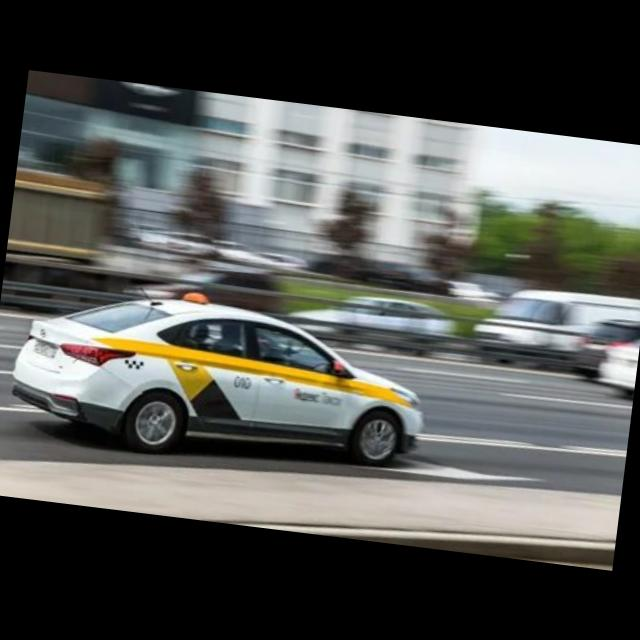taxi: (5, 271, 437, 485)
